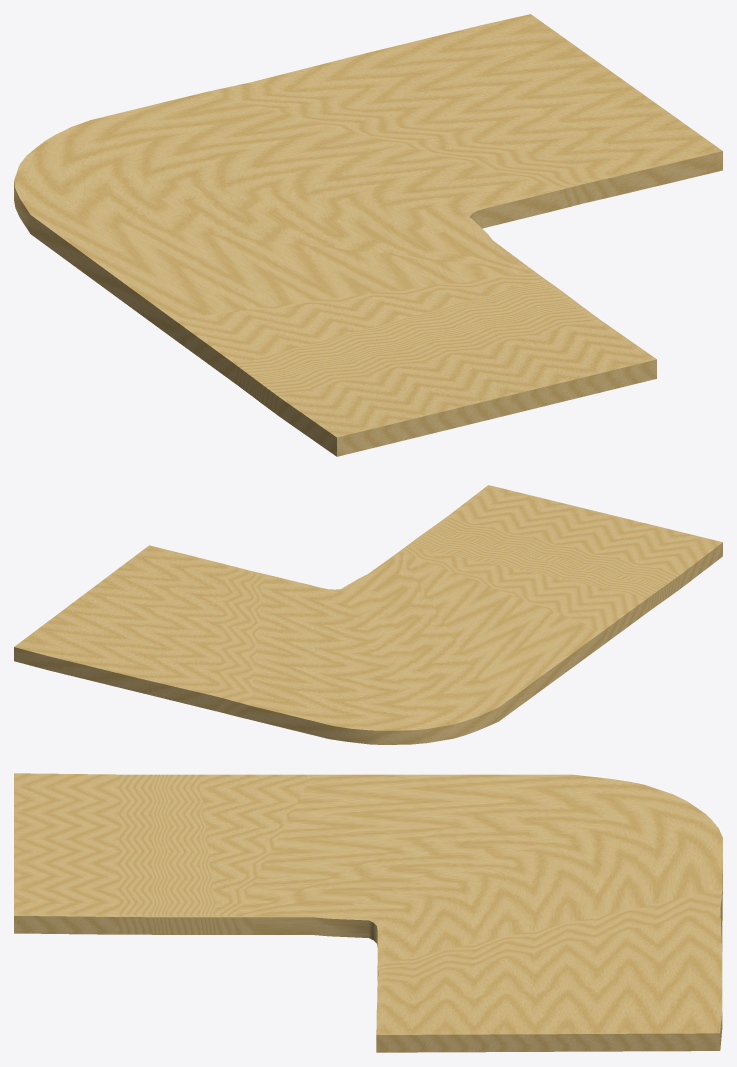
3 renders of one model, top to bottom at view 1: azimuth 30°, elevation 25°; view 2: azimuth 150°, elevation 25°; view 3: azimuth 270°, elevation 25°, orthographic. The views are drawn at different scales.
Parts seen in each view (by area): view 1: CurveRoad; view 2: CurveRoad; view 3: CurveRoad.
Part boxes in pixels (left/top/right/bottom): CurveRoad: left=14, top=14, right=722, bottom=456; CurveRoad: left=14, top=485, right=722, bottom=744; CurveRoad: left=14, top=773, right=722, bottom=1052.
Bounding box in the file's own units: 751 × 25.61 × 863.
Materials: 1 (1 with a texture image).
